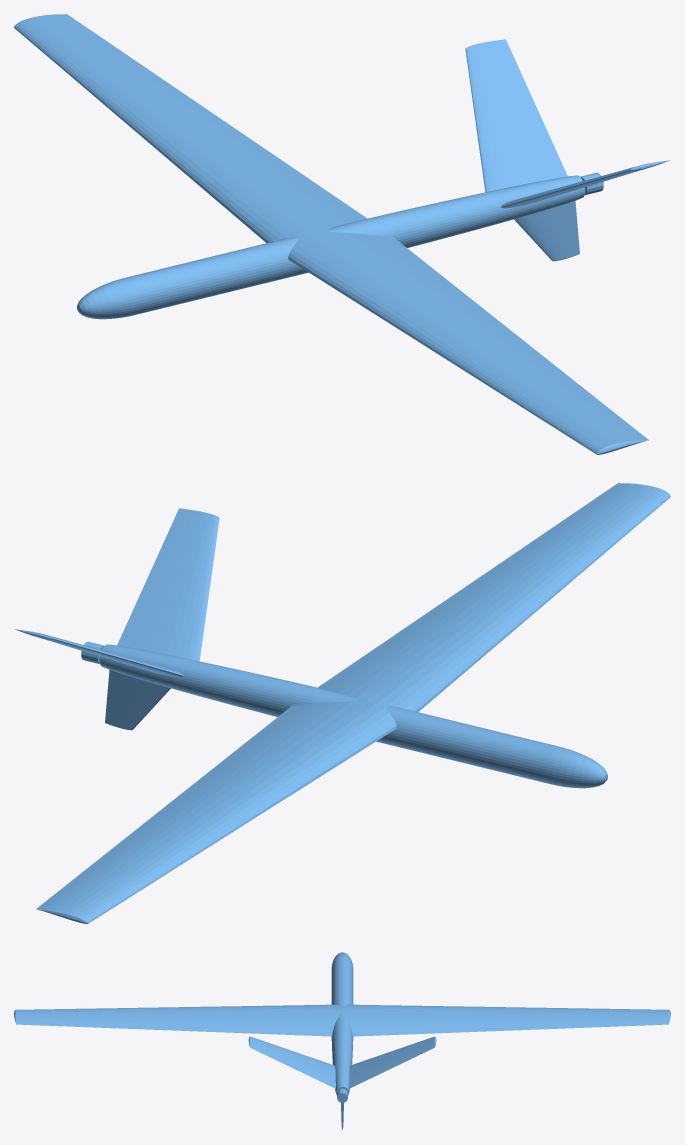
Rendered from Endurance.glb.
3 renders of one model, top to bottom at view 1: azimuth 30°, elevation 25°; view 2: azimuth 150°, elevation 25°; view 3: azimuth 270°, elevation 25°, orthographic. The views are drawn at different scales.
Size of the model in its own units: 0.935 by 0.2666 by 1.82.
